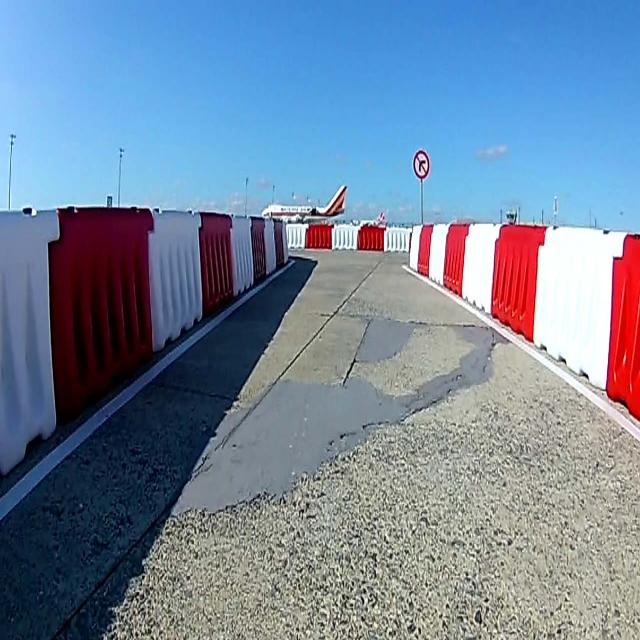sagadonulmez: (414, 151, 430, 178)
